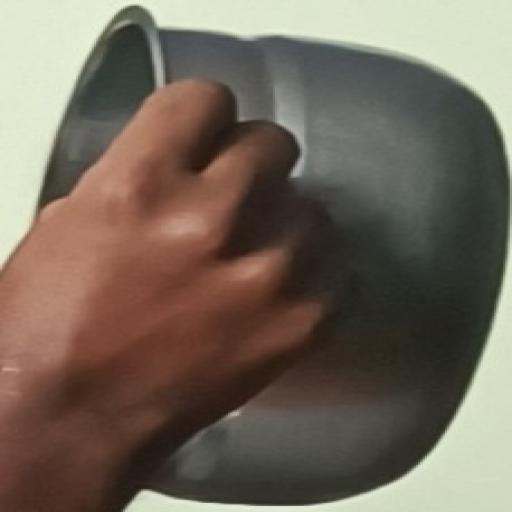vessel: (42, 9, 503, 503)
